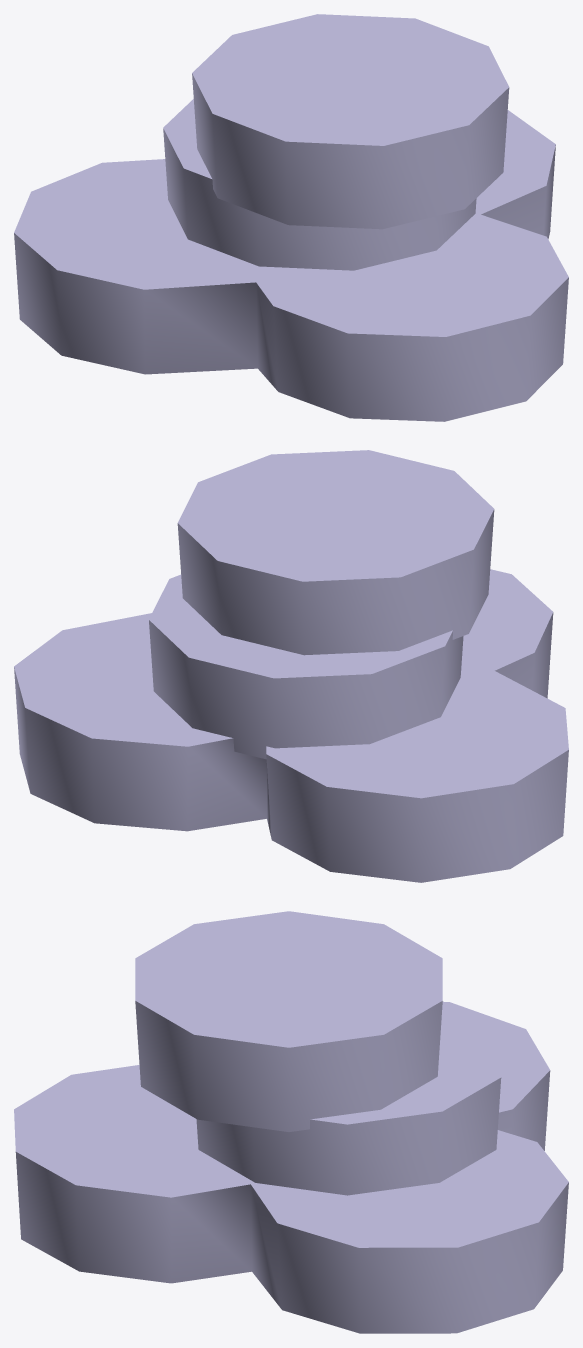
File: COINPICKUP05.obj
The picture shows the model from 3 angles, top to bottom: view 1: azimuth 30°, elevation 25°; view 2: azimuth 150°, elevation 25°; view 3: azimuth 270°, elevation 25°; orthographic projection.
Visible parts, largest first — view 1: CoinPickUp05; view 2: CoinPickUp05; view 3: CoinPickUp05.
Boxes of the visible parts, x1,y1,x2,y2 form: CoinPickUp05: (14,14,568,421); CoinPickUp05: (14,450,568,882); CoinPickUp05: (14,911,568,1333).
Size of the model in its own units: 41.3 by 18.45 by 38.93.
